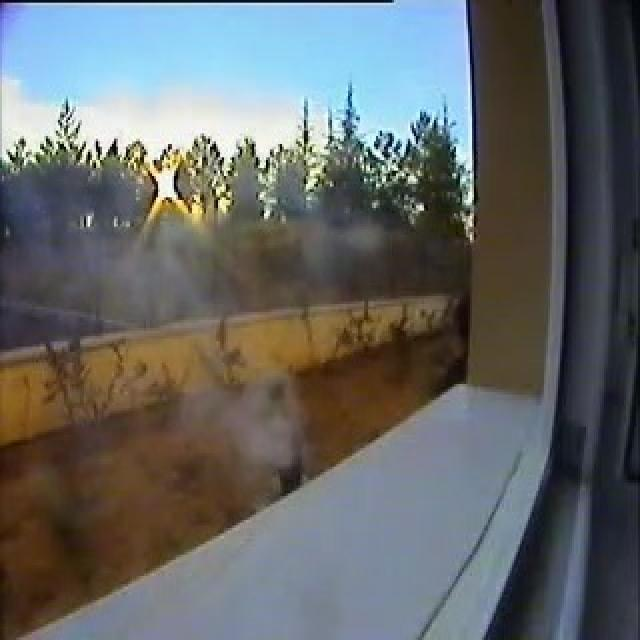smoke: (190, 378, 297, 458)
